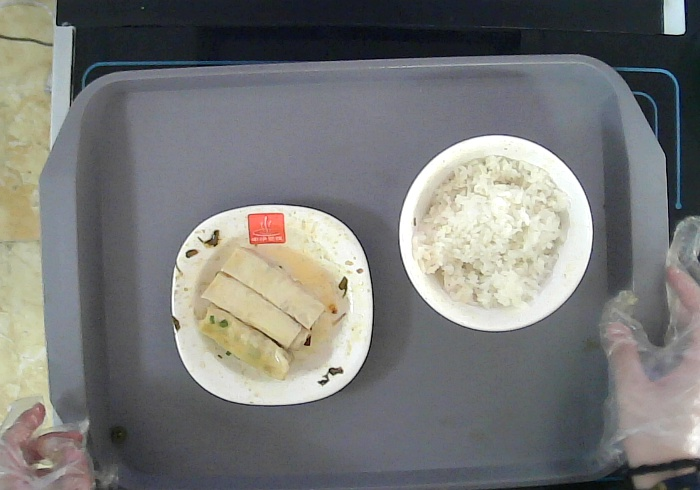SHKJ-Bai_Se_Si_Fang_Cai_Die: (169, 202, 375, 407)
SHKJ-Fan_Wan: (397, 133, 595, 334)
